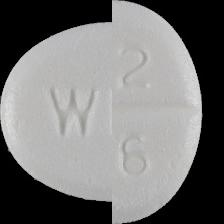50268-221: (0, 0, 224, 224)
